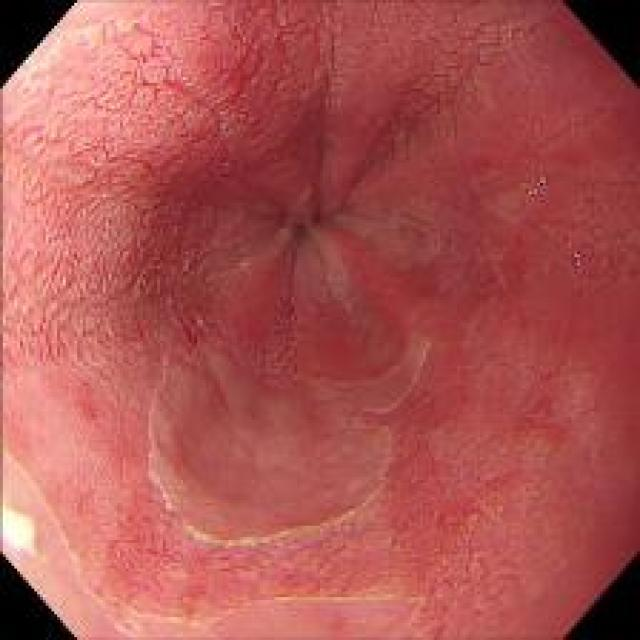bubbles: (522, 162, 550, 204), (559, 239, 590, 275)
specularity: (558, 240, 589, 274), (525, 165, 548, 201)
